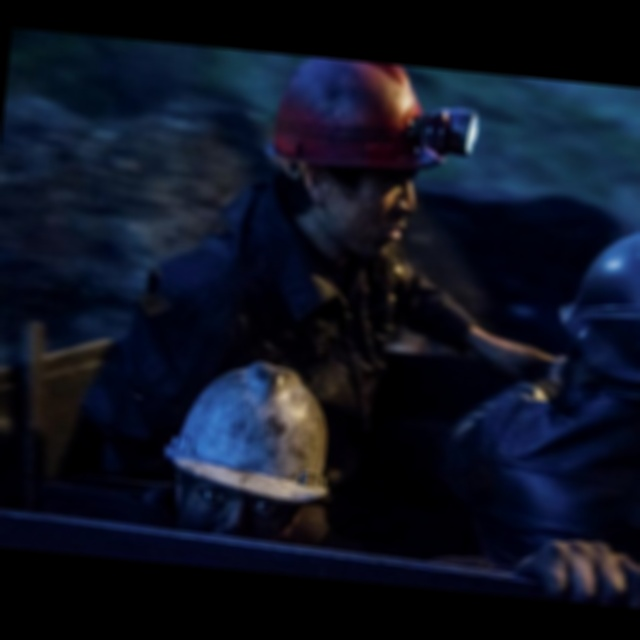Con_Casco: (167, 352, 340, 546)
